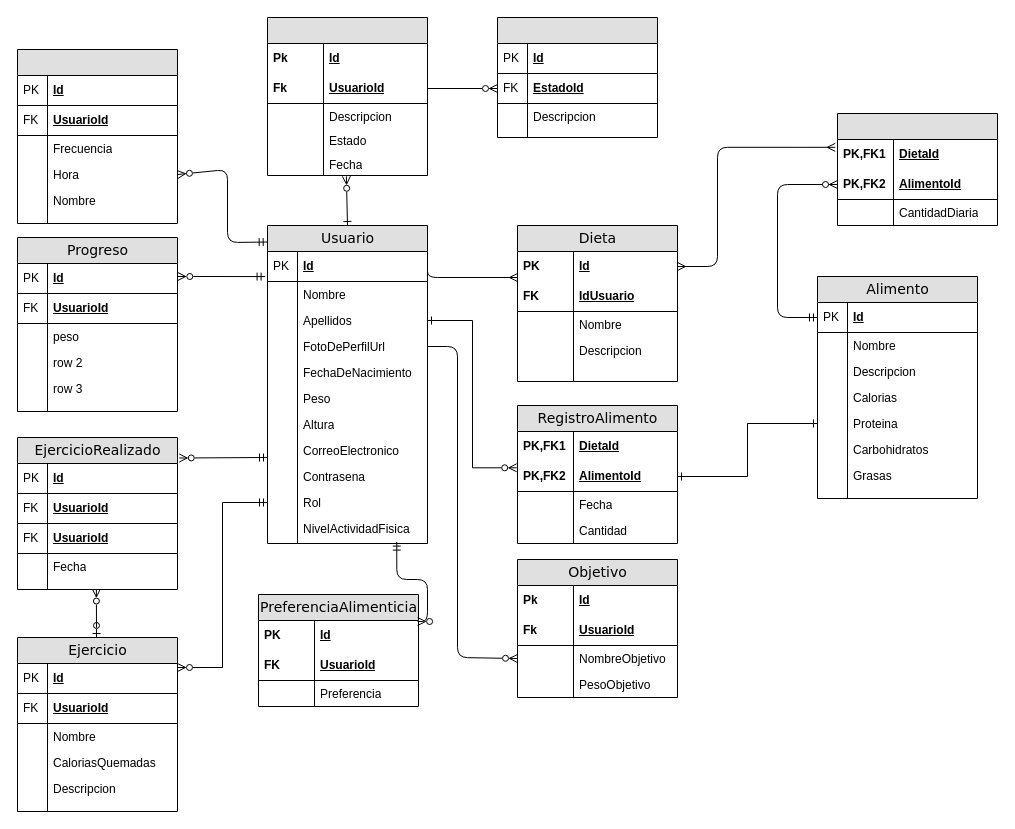
The diagram is 1015 pixels wide and 829 high, and some of its shapes have lost their labels. The shapes that lost their labels are listed below. From the top down, each one's box as (x1, y1, x2, y2) in pixels, then its label:
(266, 16, 428, 176): EstadoEmocional
(496, 16, 658, 138): Sugerencia
(16, 48, 178, 224): Recordatorios
(836, 112, 998, 226): Alimento_Dieta
